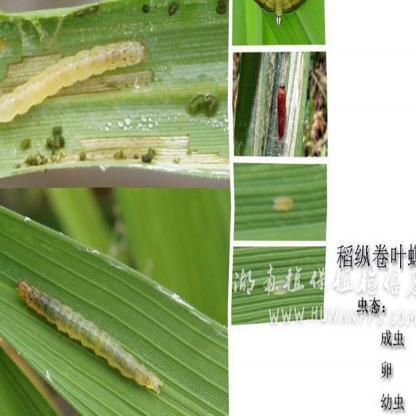leaf-folder: (7, 262, 176, 406), (0, 30, 155, 132), (270, 176, 300, 228), (273, 70, 293, 145)
